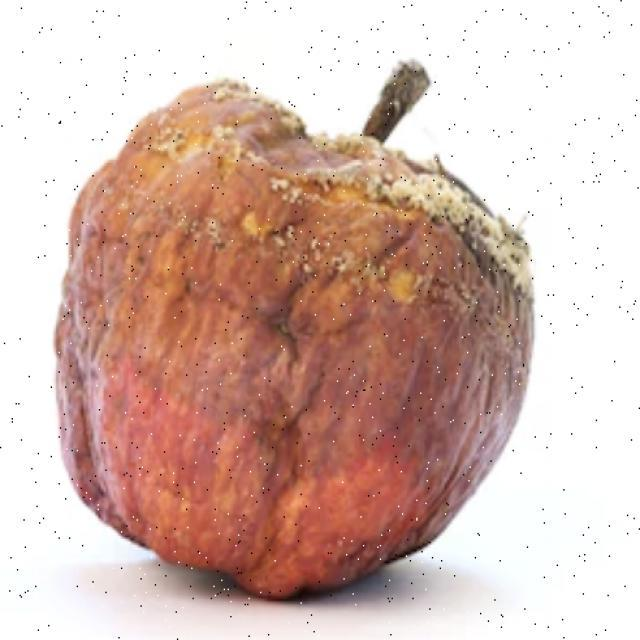Rotten: (52, 74, 555, 584)
